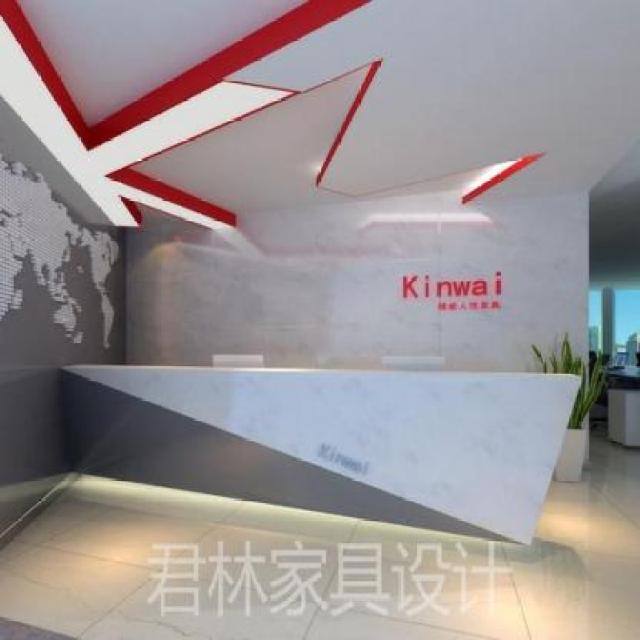frontdesk: (51, 344, 588, 564)
